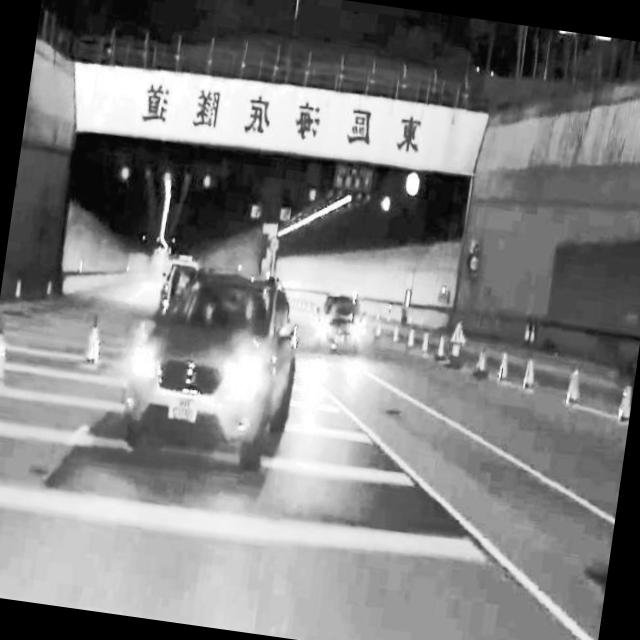Car: (78, 238, 308, 506)
